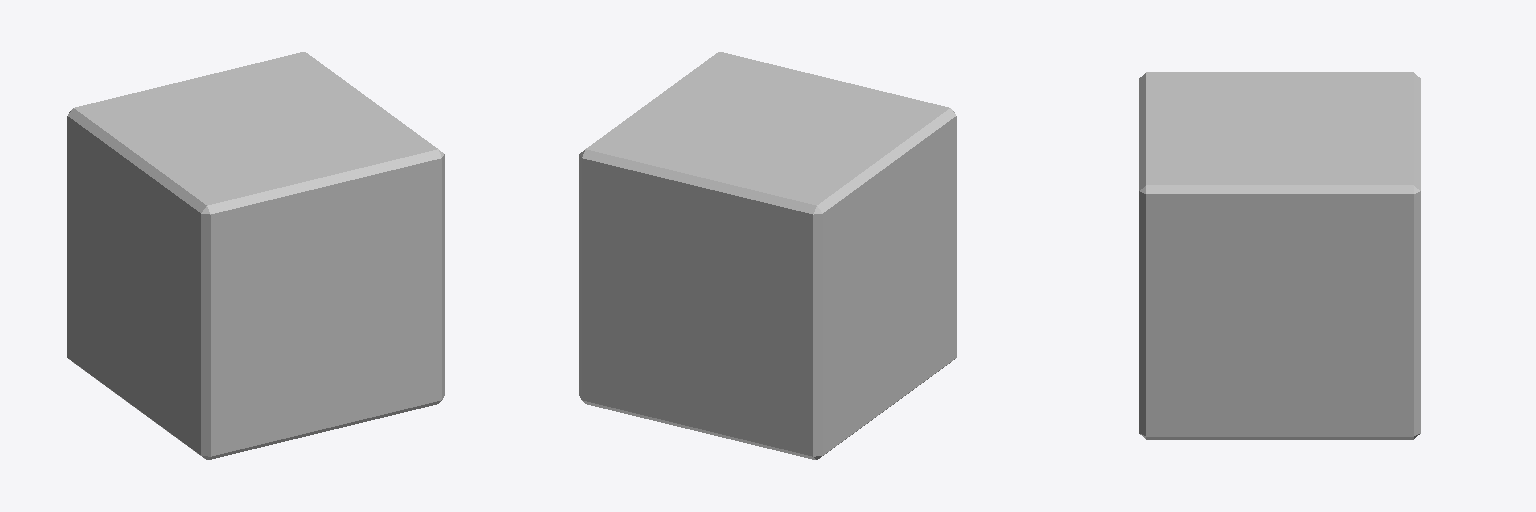
Rendered from Cube_Prototype_Large_A.obj.
3 views of the same model, side by side, from view 1: azimuth 30°, elevation 25°; view 2: azimuth 150°, elevation 25°; view 3: azimuth 270°, elevation 25° (orthographic).
Parts seen in each view (by area): view 1: Cube_Prototype_Large_A_Cube.16091; view 2: Cube_Prototype_Large_A_Cube.16091; view 3: Cube_Prototype_Large_A_Cube.16091.
Boxes of the visible parts, x1,y1,x2,y2 form: Cube_Prototype_Large_A_Cube.16091: [67, 52, 444, 459]; Cube_Prototype_Large_A_Cube.16091: [579, 52, 956, 459]; Cube_Prototype_Large_A_Cube.16091: [1139, 72, 1420, 439].
Bounding box in the file's own units: 4 × 4 × 4.